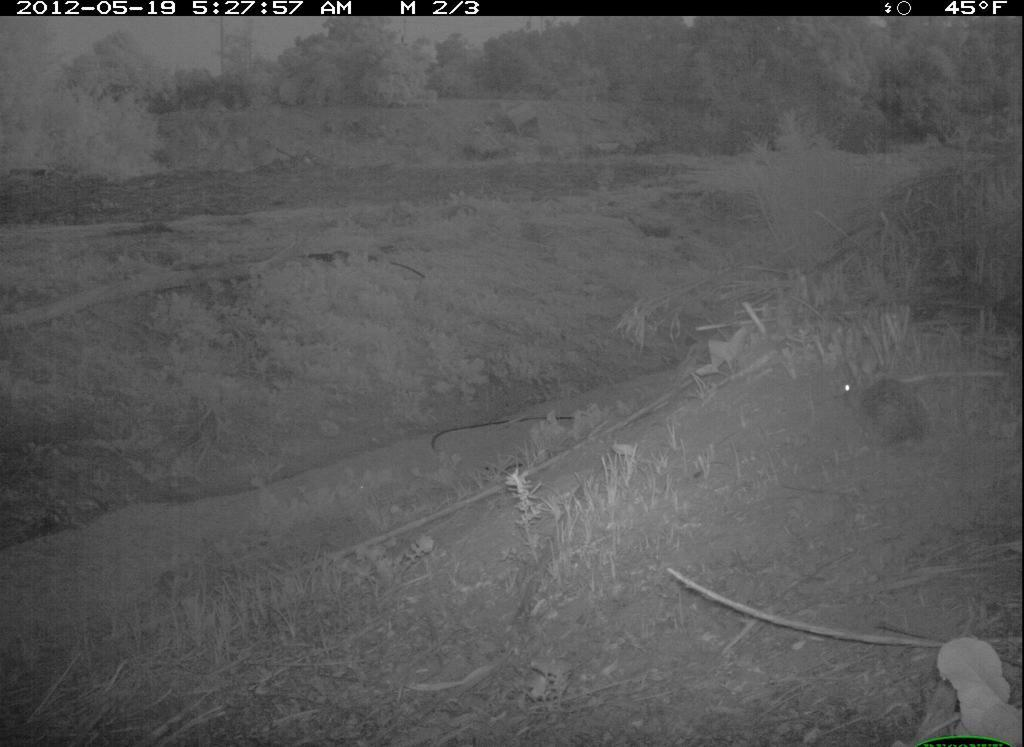rabbit: (821, 350, 941, 468)
